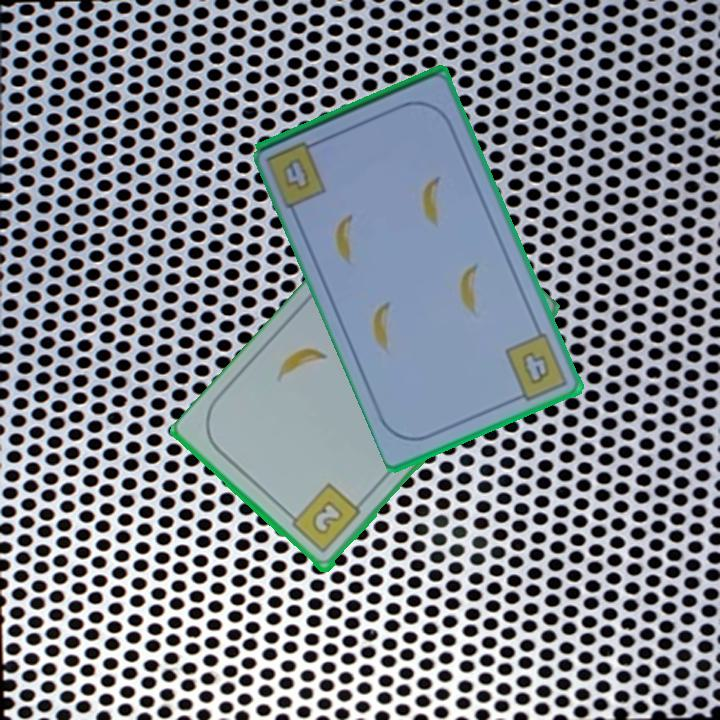2b: (283, 480, 364, 557)
4b: (501, 329, 572, 405), (279, 154, 314, 194)
